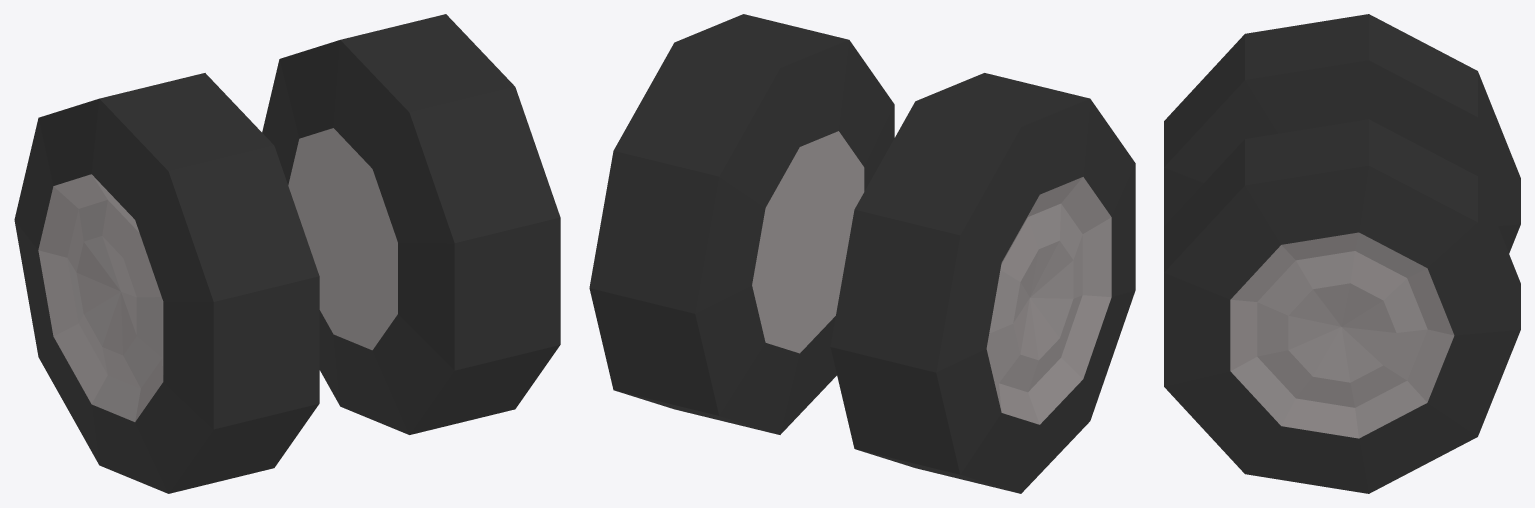
Rendered from plane-passenger-wheels_F.glb.
3 renders of one model, left to right at view 1: azimuth 30°, elevation 25°; view 2: azimuth 150°, elevation 25°; view 3: azimuth 270°, elevation 25°, orthographic. The views are drawn at different scales.
Visible parts, largest first — view 1: plane-passenger-wheels_F; view 2: plane-passenger-wheels_F; view 3: plane-passenger-wheels_F.
Boxes of the visible parts, box(x1,y1,x2,y2) form: plane-passenger-wheels_F: box(14, 14, 560, 493); plane-passenger-wheels_F: box(589, 14, 1135, 493); plane-passenger-wheels_F: box(1164, 14, 1520, 493).
Size of the model in its own units: 1.17 by 1.1 by 1.08.
1 material, 1 textured.
